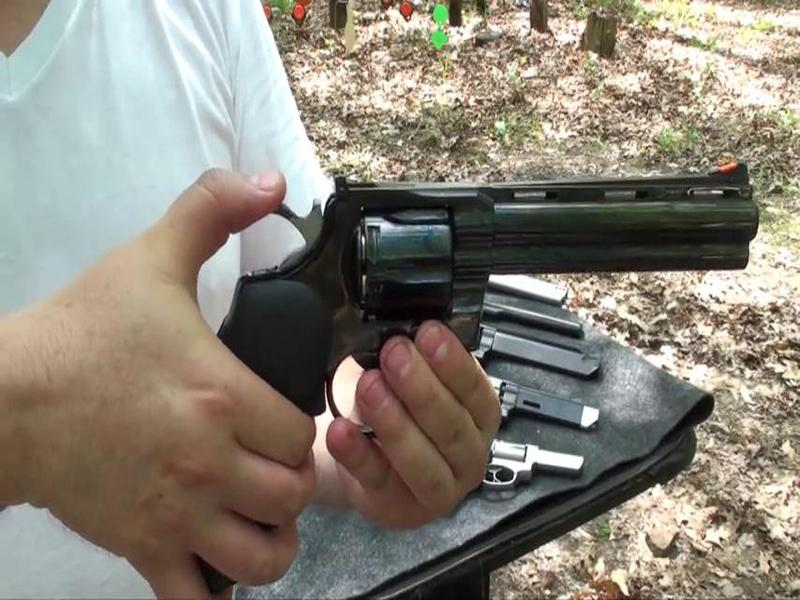Revolver: (205, 164, 770, 424)
